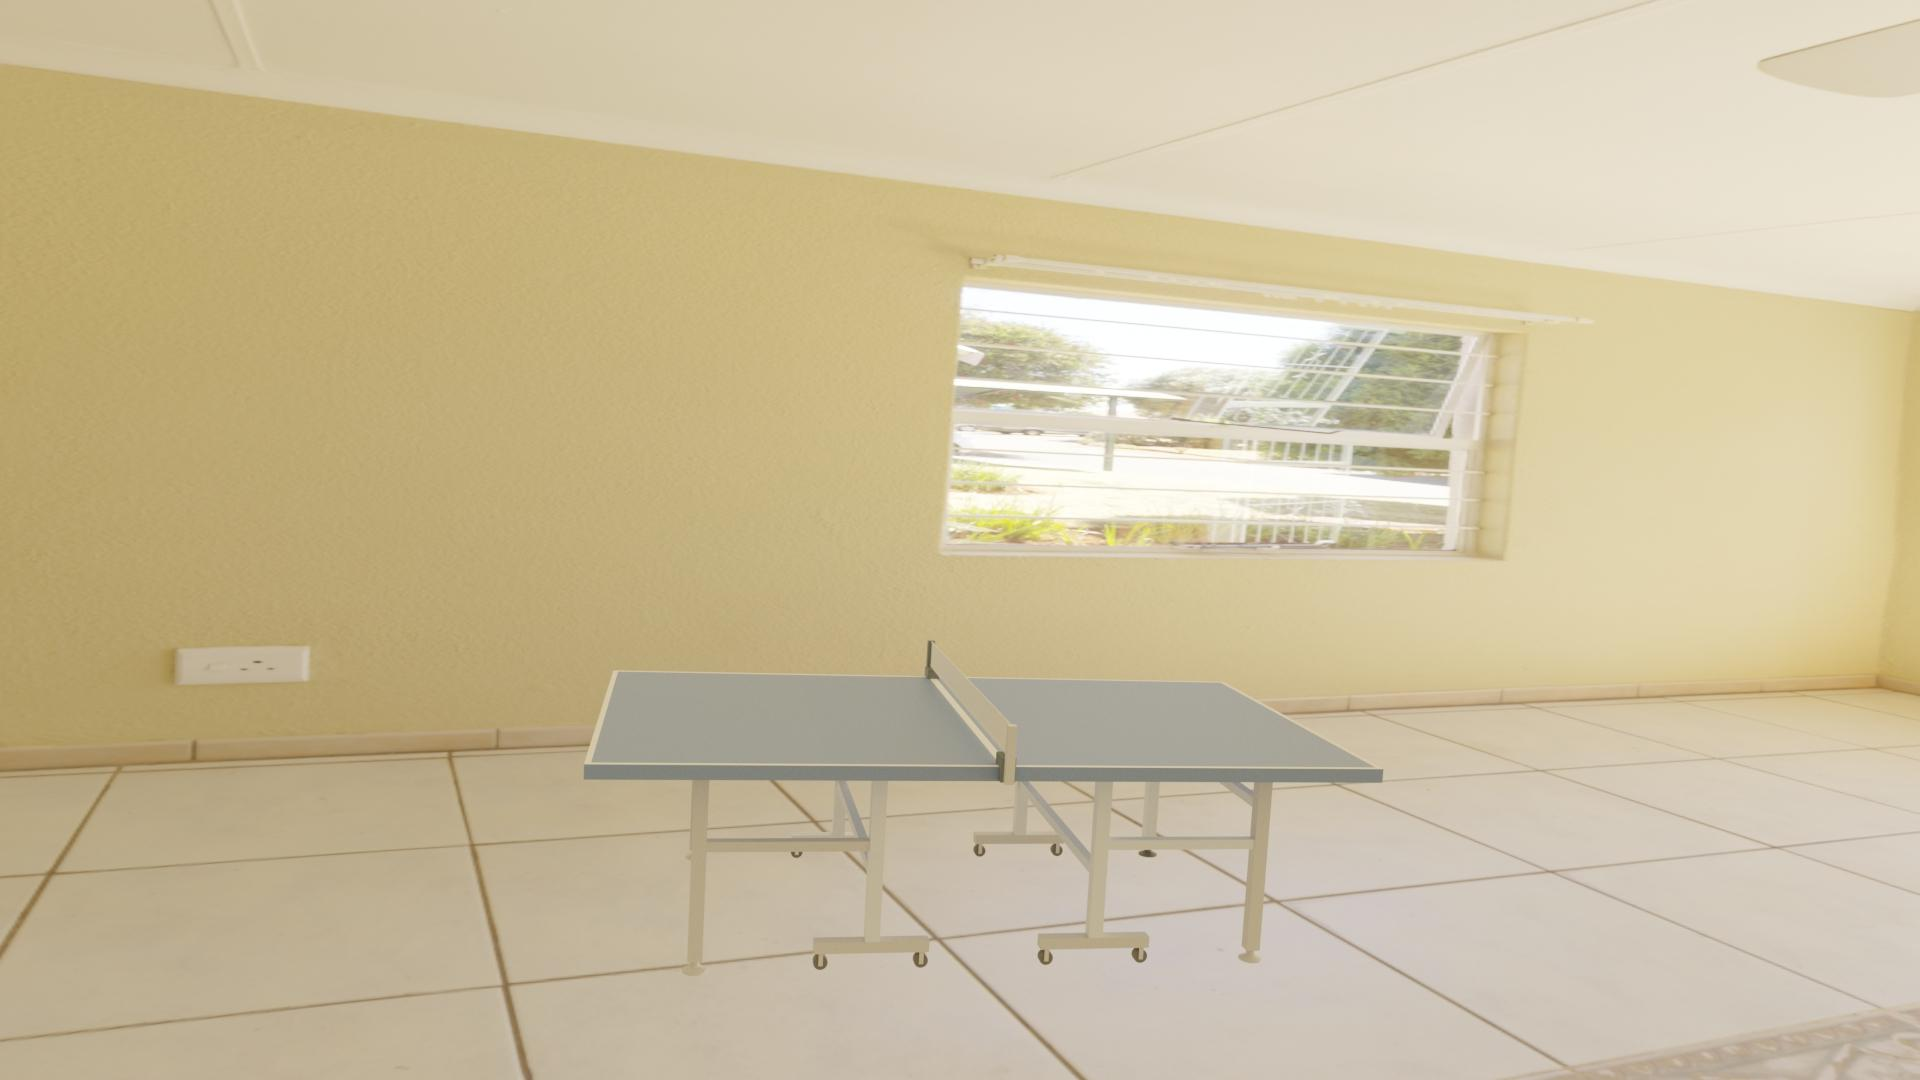table: (591, 671, 1375, 767)
